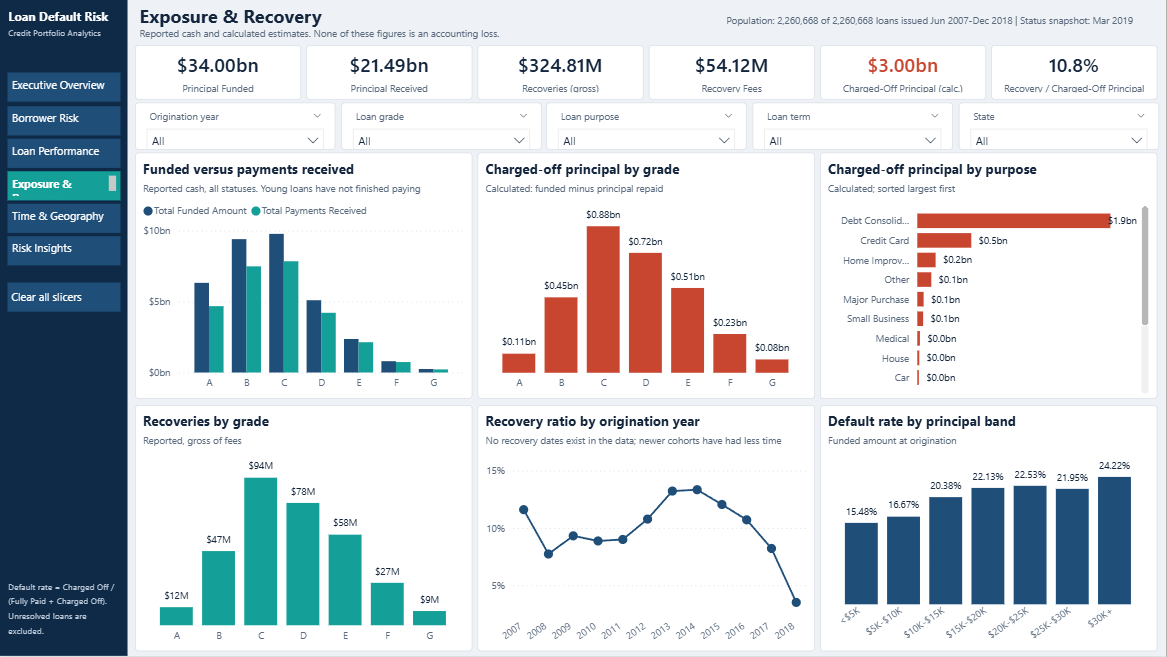

The dashboard page shown, as its layout file describes it:
{"tool":"powerbi","page":{"name":"Exposure & Recovery","canvas":[1280,720],"ordinal":3},"visuals":[{"type":"textbox","box":[0,0,140,720],"z":0},{"type":"textbox","box":[4,4,134,72],"z":1000},{"type":"textbox","box":[8,80,124,32],"z":2000},{"type":"actionButton","box":[8,80,124,32],"z":3000},{"type":"textbox","box":[8,116,124,32],"z":4000},{"type":"actionButton","box":[8,116,124,32],"z":5000},{"type":"textbox","box":[8,152,124,32],"z":6000},{"type":"actionButton","box":[8,152,124,32],"z":7000},{"type":"textbox","box":[8,188,124,32],"z":8000},{"type":"actionButton","box":[8,188,124,32],"z":9000},{"type":"textbox","box":[8,224,124,32],"z":10000},{"type":"actionButton","box":[8,224,124,32],"z":11000},{"type":"textbox","box":[8,260,124,32],"z":12000},{"type":"actionButton","box":[8,260,124,32],"z":13000},{"type":"textbox","box":[8,310,124,32],"z":14000},{"type":"actionButton","box":[8,310,124,32],"z":15000},{"type":"textbox","box":[4,630,134,86],"z":16000},{"type":"textbox","box":[148,-2,620,40],"z":17000},{"type":"textbox","box":[148,24,720,26],"z":18000},{"type":"card","fields":{"Values":["fact_loans.Scope Label"]},"box":[770,6,502,40],"z":19000},{"type":"card","fields":{"Values":["fact_loans.Total Funded Amount"]},"box":[148,50,182,60],"z":20000},{"type":"card","fields":{"Values":["fact_loans.Total Principal Received"]},"box":[336,50,182,60],"z":21000},{"type":"card","fields":{"Values":["fact_loans.Total Recoveries"]},"box":[524,50,182,60],"z":22000},{"type":"card","fields":{"Values":["fact_loans.Total Recovery Fees"]},"box":[712,50,182,60],"z":23000},{"type":"card","fields":{"Values":["fact_loans.Charged-Off Principal Exposure"]},"box":[900,50,182,60],"z":24000},{"type":"card","fields":{"Values":["fact_loans.Recovery Ratio"]},"box":[1088,50,182,60],"z":25000},{"type":"slicer","fields":{"Values":["dim_date.issue_year"]},"box":[148,112,220,52],"z":26000},{"type":"slicer","fields":{"Values":["dim_grade.grade"]},"box":[374,112,220,52],"z":27000},{"type":"slicer","fields":{"Values":["dim_purpose.purpose_label"]},"box":[600,112,220,52],"z":28000},{"type":"slicer","fields":{"Values":["dim_term.term_label"]},"box":[826,112,220,52],"z":29000},{"type":"slicer","fields":{"Values":["dim_state.state_name"]},"box":[1052,112,220,52],"z":30000},{"type":"clusteredColumnChart","title":"Funded versus payments received","fields":{"Category":["dim_grade.grade"],"Y":["fact_loans.Total Funded Amount","fact_loans.Total Payments Received"]},"box":[148,168,370,270],"z":31000},{"type":"clusteredColumnChart","title":"Charged-off principal by grade","fields":{"Category":["dim_grade.grade"],"Y":["fact_loans.Charged-Off Principal Exposure"]},"box":[524,168,370,270],"z":32000},{"type":"clusteredBarChart","title":"Charged-off principal by purpose","fields":{"Category":["dim_purpose.purpose_label"],"Y":["fact_loans.Charged-Off Principal Exposure"]},"box":[900,168,370,270],"z":33000},{"type":"clusteredColumnChart","title":"Recoveries by grade","fields":{"Category":["dim_grade.grade"],"Y":["fact_loans.Total Recoveries"]},"box":[148,444,370,270],"z":34000},{"type":"lineChart","title":"Recovery ratio by origination year","fields":{"Category":["dim_date.issue_year"],"Y":["fact_loans.Recovery Ratio"]},"box":[524,444,370,270],"z":35000},{"type":"clusteredColumnChart","title":"Default rate by principal band","fields":{"Category":["dim_amount_band.amount_band"],"Y":["fact_loans.Historical Default Rate"]},"box":[900,444,370,270],"z":36000}]}

Visuals, with their boxes on the page's 1280x720 design canvas (x1, y1, x2, y2). These are canvas units, not pixel positions in the 1167x657 screenshot, which may show the page scaled, cropped or inside an application window:
textbox: bbox=[0, 0, 140, 720]
textbox: bbox=[4, 4, 138, 76]
textbox: bbox=[8, 80, 132, 112]
actionButton: bbox=[8, 80, 132, 112]
textbox: bbox=[8, 116, 132, 148]
actionButton: bbox=[8, 116, 132, 148]
textbox: bbox=[8, 152, 132, 184]
actionButton: bbox=[8, 152, 132, 184]
textbox: bbox=[8, 188, 132, 220]
actionButton: bbox=[8, 188, 132, 220]
textbox: bbox=[8, 224, 132, 256]
actionButton: bbox=[8, 224, 132, 256]
textbox: bbox=[8, 260, 132, 292]
actionButton: bbox=[8, 260, 132, 292]
textbox: bbox=[8, 310, 132, 342]
actionButton: bbox=[8, 310, 132, 342]
textbox: bbox=[4, 630, 138, 716]
textbox: bbox=[148, -2, 768, 38]
textbox: bbox=[148, 24, 868, 50]
card - fact_loans.Scope Label: bbox=[770, 6, 1272, 46]
card - fact_loans.Total Funded Amount: bbox=[148, 50, 330, 110]
card - fact_loans.Total Principal Received: bbox=[336, 50, 518, 110]
card - fact_loans.Total Recoveries: bbox=[524, 50, 706, 110]
card - fact_loans.Total Recovery Fees: bbox=[712, 50, 894, 110]
card - fact_loans.Charged-Off Principal Exposure: bbox=[900, 50, 1082, 110]
card - fact_loans.Recovery Ratio: bbox=[1088, 50, 1270, 110]
slicer - dim_date.issue_year: bbox=[148, 112, 368, 164]
slicer - dim_grade.grade: bbox=[374, 112, 594, 164]
slicer - dim_purpose.purpose_label: bbox=[600, 112, 820, 164]
slicer - dim_term.term_label: bbox=[826, 112, 1046, 164]
slicer - dim_state.state_name: bbox=[1052, 112, 1272, 164]
"Funded versus payments received" clusteredColumnChart: bbox=[148, 168, 518, 438]
"Charged-off principal by grade" clusteredColumnChart: bbox=[524, 168, 894, 438]
"Charged-off principal by purpose" clusteredBarChart: bbox=[900, 168, 1270, 438]
"Recoveries by grade" clusteredColumnChart: bbox=[148, 444, 518, 714]
"Recovery ratio by origination year" lineChart: bbox=[524, 444, 894, 714]
"Default rate by principal band" clusteredColumnChart: bbox=[900, 444, 1270, 714]
